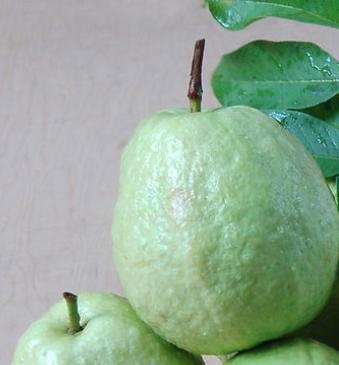guava_B: (112, 105, 339, 355)
